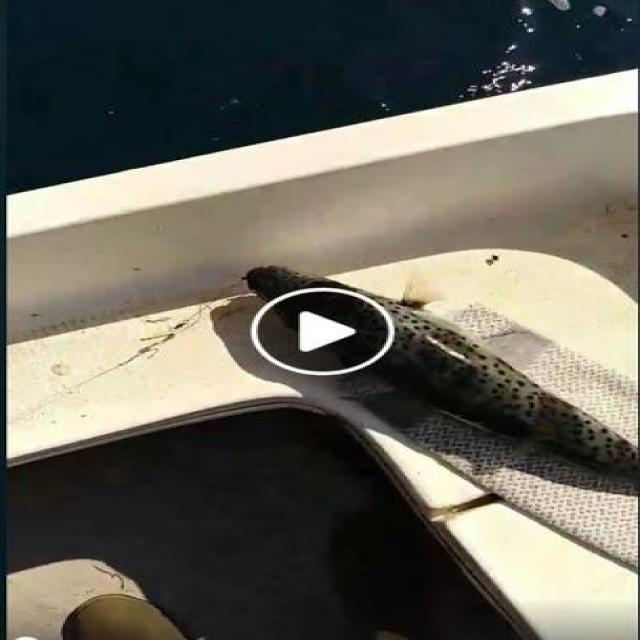Balik: (246, 267, 637, 476)
